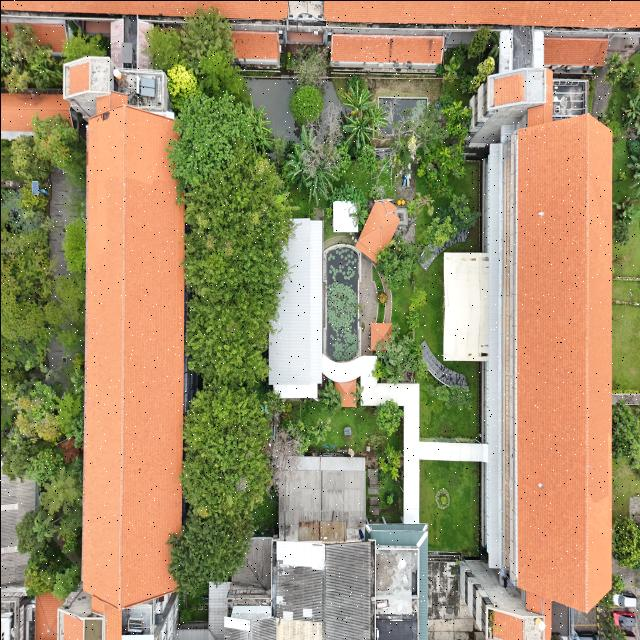Tree: (290, 82, 322, 126), (166, 59, 196, 98), (31, 508, 64, 540), (374, 400, 402, 434), (344, 88, 374, 115), (381, 446, 399, 477), (406, 310, 418, 330)
